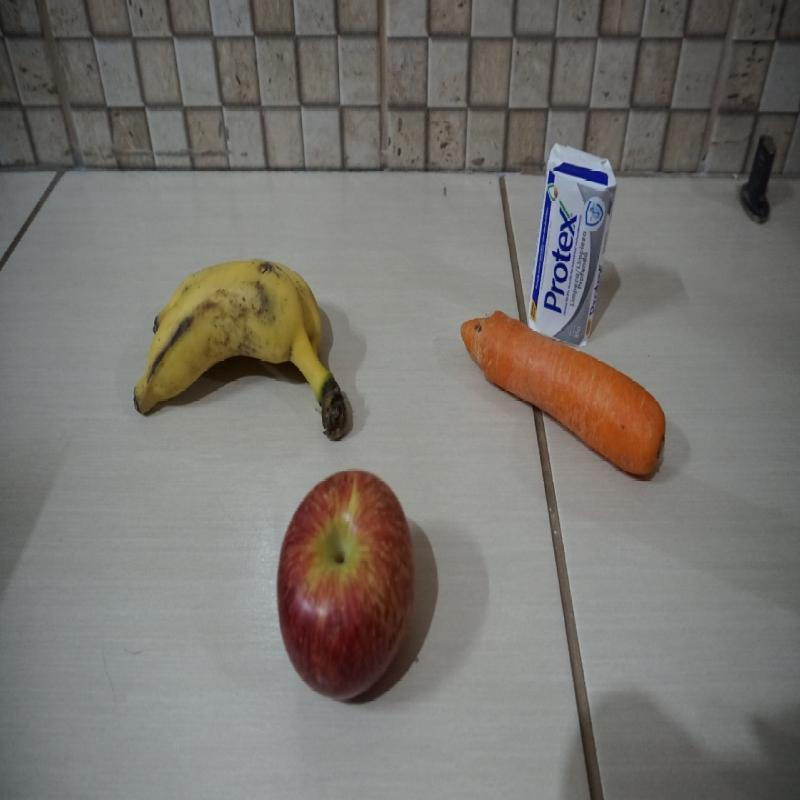Apple: (270, 467, 416, 699)
Banana: (133, 252, 353, 440)
Carrot: (452, 312, 672, 484)
Soap: (533, 135, 616, 304)
